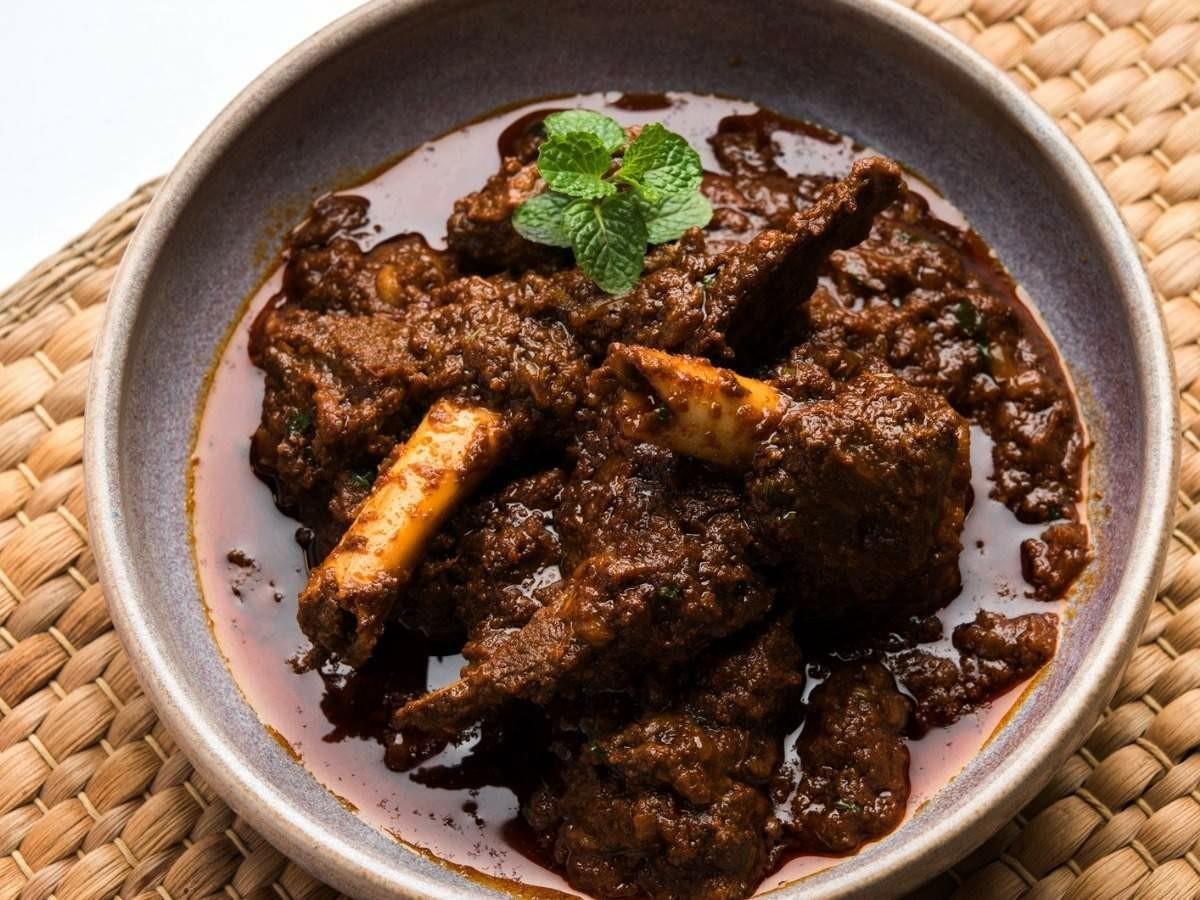MuttonCurry: (249, 108, 1092, 900)
